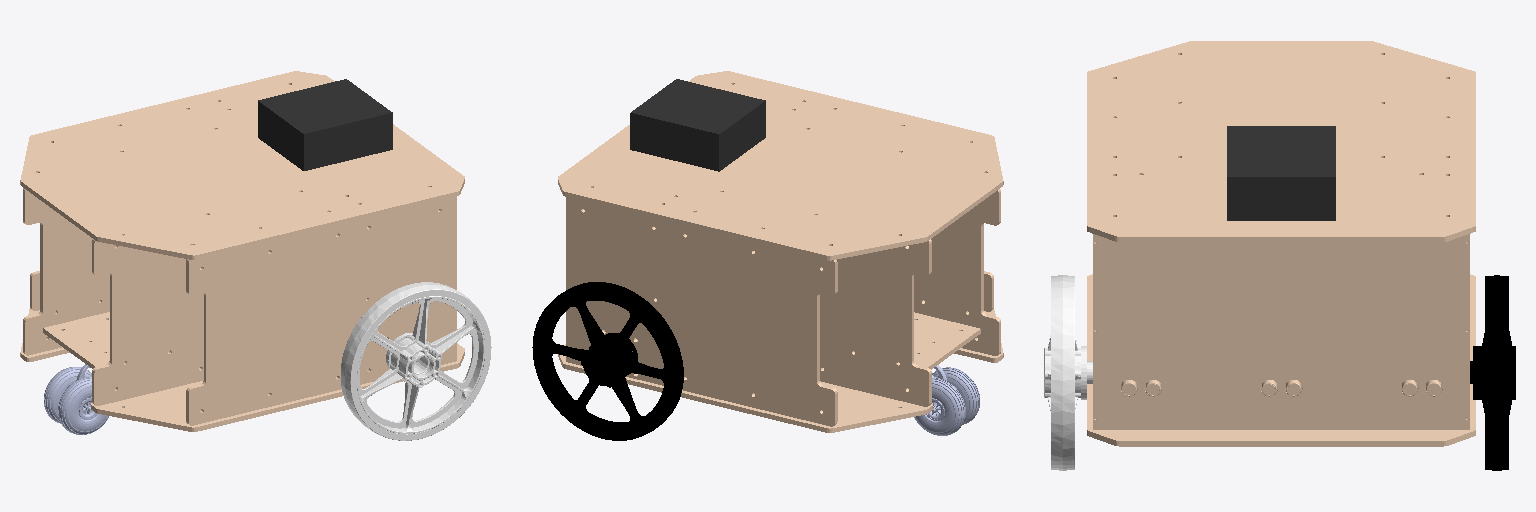
URDF robot description (final_description):
?<robot
  name="final_description">
  <link
    name="base_link">
    <inertial>
      <origin
        xyz="-0.0542102930126108 -0.00147372643899868 0.030052049722662"
        rpy="0 0 0" />
      <mass
        value="12.6996504557446" />
      <inertia
        ixx="0.204547339739001"
        ixy="-0.00137510220264843"
        ixz="-0.0219088420664967"
        iyy="4.18075396064092"
        iyz="0.000599165089979215"
        izz="0.272229743771322" />
    </inertial>
    <visual>
      <origin
        xyz="0 0 0"
        rpy="0 0 0" />
      <geometry>
        <mesh
          filename="package://final_description/meshes/base_link.STL" />
      </geometry>
      <material
        name="">
        <color
          rgba="0.996078431372549 0.870588235294118 0.76078431372549 1" />
      </material>
    </visual>
    <collision>
      <origin xyz="-0.14 0.0 0.082" rpy="0 0 0"/>
      <geometry>
        <box size="0.48 0.41 0.24"/>
      </geometry>
    </collision>
  </link>
  <link
    name="base_laser">
    <inertial>
      <origin
        xyz="0.0127 1.27087771103731E-19 -0.0254"
        rpy="0 0 0" />
      <mass
        value="0.7521662376" />
      <inertia
        ixx="0.000980644880738574"
        ixy="-2.68989534912001E-19"
        ixz="-1.37318069412531E-21"
        iyy="0.00117272996047087"
        iyz="-7.16140114664618E-36"
        izz="0.0018298631279761" />
    </inertial>
    <visual>
      <origin
        xyz="0 0 0"
        rpy="0 0 0" />
      <geometry>
        <mesh
          filename="package://final_description/meshes/base_laser.STL" />
      </geometry>
      <material
        name="">
        <color
          rgba="0.250980392156863 0.250980392156863 0.250980392156863 1" />
      </material>
    </visual>
  </link>
  <joint
    name="laser_joint"
    type="fixed">
    <origin
      xyz="-0.0109499999999999 0 0.25575"
      rpy="1.45390373192998E-33 -3.44227613947609E-17 -4.22366966803326E-17" />
    <parent
      link="base_link" />
    <child
      link="base_laser" />
    <axis
      xyz="0 0 0" />
  </joint>
  <link
    name="left_wheel_link">
    <inertial>
      <origin
        xyz="-1.02697830889065E-05 0.0207696125417688 -1.29881572009244E-06"
        rpy="0 0 0" />
      <mass
        value="0.360809172043754" />
      <inertia
        ixx="0.00106675827256857"
        ixy="1.00199366250103E-07"
        ixz="-5.46170508884861E-09"
        iyy="0.00202538580830831"
        iyz="7.42904254208682E-09"
        izz="0.00106727492610413" />
    </inertial>
    <visual>
      <origin
        xyz="0 0 0"
        rpy="0 0 0" />
      <geometry>
        <mesh
          filename="package://final_description/meshes/left_wheel_link.STL" />
      </geometry>
      <material
        name="">
        <color
          rgba="0 0 0 1" />
      </material>
    </visual>
    <collision>
      <origin xyz="0 0.028 0" rpy="-1.5708 0 0"/>
      <geometry>
        <cylinder length="0.03" radius="0.1"/>
      </geometry>
    </collision>
  </link>
  <joint
    name="left_wheel_joint"
    type="continuous">
    <origin
      xyz="0 0.1997875 0"
      rpy="0 -3.44227613947609E-17 0" />
    <parent
      link="base_link" />
    <child
      link="left_wheel_link" />
    <axis
      xyz="0 1 0" />
  </joint>
  <link
    name="right_wheel_link">
    <inertial>
      <origin
        xyz="-7.84481351270849E-06 -0.0207696125417685 -2.84905793875717E-06"
        rpy="0 0 0" />
      <mass
        value="0.360809172043695" />
      <inertia
        ixx="0.00106697353985248"
        ixy="-9.44069048271674E-08"
        ixz="-2.70312200163103E-07"
        iyy="0.00202538582183835"
        iyz="-1.71229823500516E-08"
        izz="0.00106705967235024" />
    </inertial>
    <visual>
      <origin
        xyz="0 0 0"
        rpy="0 0 0" />
      <geometry>
        <mesh
          filename="package://final_description/meshes/right_wheel_link.STL" />
      </geometry>
      <material
        name="">
        <color
          rgba="1 1 1 1" />
      </material>
    </visual>
    <collision>
      <origin xyz="0 -0.028 0" rpy="-1.5708 0 0"/>
      <geometry>
        <cylinder length="0.03" radius="0.1"/>
      </geometry>
    </collision>
  </link>
  <joint
    name="right_wheel_joint"
    type="continuous">
    <origin
      xyz="0 -0.202910199564064 0"
      rpy="0 -3.44227613947609E-17 0" />
    <parent
      link="base_link" />
    <child
      link="right_wheel_link" />
    <axis
      xyz="0 1 0" />
  </joint>
  <link
    name="rear_caster_link">
    <inertial>
      <origin
        xyz="-0.0145051914736939 1.27609826723261E-08 -0.0267008820899361"
        rpy="0 0 0" />
      <mass
        value="0.013967106304125" />
      <inertia
        ixx="3.65783748314741E-06"
        ixy="-6.12385147064122E-12"
        ixz="2.23670176886623E-06"
        iyy="6.47276824188858E-06"
        iyz="-1.48142589566213E-11"
        izz="3.77349384162539E-06" />
    </inertial>
    <visual>
      <origin
        xyz="0 0 0"
        rpy="0 0 0" />
      <geometry>
        <mesh
          filename="package://final_description/meshes/rear_caster_link.STL" />
      </geometry>
      <material
        name="">
        <color
          rgba="0.796078431372549 0.823529411764706 0.937254901960784 1" />
      </material>
    </visual>
  </link>
  <joint
    name="rear_caster_joint"
    type="continuous">
    <origin
      xyz="-0.311952216057907 0 -0.00604000000000002"
      rpy="-3.04704848392389E-33 -1.0830817995158E-17 8.85184209651363E-17" />
    <parent
      link="base_link" />
    <child
      link="rear_caster_link" />
    <axis
      xyz="0 0 1" />
  </joint>
  <link
    name="left_caster_link">
    <inertial>
      <origin
        xyz="-8.3267E-17 0.048196 -1.2143E-16"
        rpy="0 0 0" />
      <mass
        value="0.081491" />
      <inertia
        ixx="3.0097E-05"
        ixy="-2.5264E-20"
        ixz="5.5896E-21"
        iyy="5.4519E-05"
        iyz="3.6053E-20"
        izz="3.0097E-05" />
    </inertial>
    <visual>
      <origin
        xyz="0 0 0"
        rpy="0 0 0" />
      <geometry>
        <mesh
          filename="package://final_description/meshes/left_caster_link.STL" />
      </geometry>
      <material
        name="">
        <color
          rgba="0.79608 0.82353 0.93725 1" />
      </material>
    </visual>
    <collision>
      <origin xyz="0 0.05 0" rpy="-1.5708 0 0"/>
      <geometry>
        <cylinder length="0.02" radius="0.04"/>
      </geometry>
    </collision>
  </link>
  <joint
    name="left_caster_joint"
    type="continuous">
    <origin
      xyz="-0.0387984999999999 -0.03048 -0.057912"
      rpy="5.94919414549349E-33 0 -2.52170584030547E-16" />
    <parent
      link="rear_caster_link" />
    <child
      link="left_caster_link" />
    <axis
      xyz="0 1 0" />
  </joint>
  <link
    name="right_caster_link">
    <inertial>
      <origin
        xyz="1.1102E-16 0.012789 1.2837E-16"
        rpy="0 0 0" />
      <mass
        value="0.081491" />
      <inertia
        ixx="3.0097E-05"
        ixy="-2.5707E-20"
        ixz="4.679E-21"
        iyy="5.4519E-05"
        iyz="-3.2987E-20"
        izz="3.0097E-05" />
    </inertial>
    <visual>
      <origin
        xyz="0 0 0"
        rpy="0 0 0" />
      <geometry>
        <mesh
          filename="package://final_description/meshes/right_caster_link.STL" />
      </geometry>
      <material
        name="">
        <color
          rgba="0.79608 0.82353 0.93725 1" />
      </material>
    </visual>
    <collision>
      <origin xyz="0 0.01 0" rpy="-1.5708 0 0"/>
      <geometry>
        <cylinder length="0.02" radius="0.04"/>
      </geometry>
    </collision>
  </link>
  <joint
    name="right_caster_joint"
    type="continuous">
    <origin
      xyz="-0.0387984999999999 -0.03048 -0.057912"
      rpy="5.94919414549349E-33 0 -2.52170584030547E-16" />
    <parent
      link="rear_caster_link" />
    <child
      link="right_caster_link" />
    <axis
      xyz="0 1 0" />
  </joint>
  <gazebo>
    <plugin name="differential_drive_controller" filename="libgazebo_ros_diff_drive.so">
      <leftJoint>left_wheel_joint</leftJoint>
      <rightJoint>right_wheel_joint</rightJoint>
      <robotBaseFrame>base_link</robotBaseFrame>
      <wheelSeparation>0.45</wheelSeparation>
      <wheelDiameter>0.2</wheelDiameter>
      <publishWheelJointState>true</publishWheelJointState>
    </plugin>
  </gazebo>

  <gazebo reference="base_laser">
    <sensor type="gpu_ray" name="neato">
      <pose>0 0 0 0 0 0</pose>
      <visualize>true</visualize>
      <update_rate>5</update_rate>
      <ray>
        <scan>
          <horizontal>
            <samples>720</samples>
            <resolution>1</resolution>
            <min_angle>0</min_angle>
            <max_angle>6.28</max_angle>
          </horizontal>
        </scan>
        <range>
          <min>0.10</min>
          <max>30.0</max>
          <resolution>0.01</resolution>
        </range>
      </ray>
      <plugin name="cpu_laser" filename="libgazebo_ros_gpu_laser.so">
        <topicName>/scan</topicName>
        <frameName>base_laser</frameName>
      </plugin>
    </sensor>
  </gazebo>

</robot>

--- Render facts (derived) ---
3 views of the same robot in one strip: view 1: azimuth 30°, elevation 25°; view 2: azimuth 150°, elevation 25°; view 3: azimuth 270°, elevation 25° (orthographic).
Model final_description with 7 links and 6 joints (5 continuous, 1 fixed), rooted at base_link, posed all joints at 0.
Links seen in each view (by area): view 1: base_link, right_wheel_link, base_laser, right_caster_link, left_caster_link; view 2: base_link, left_wheel_link, base_laser, left_caster_link, right_caster_link; view 3: base_link, base_laser, right_wheel_link, left_wheel_link.
Link boxes in pixels (bbox=[...]): base_link: bbox=[20, 71, 464, 431]; right_wheel_link: bbox=[341, 282, 491, 440]; base_laser: bbox=[258, 79, 392, 170]; right_caster_link: bbox=[58, 377, 108, 434]; left_caster_link: bbox=[44, 367, 91, 423]; base_link: bbox=[558, 71, 1003, 432]; left_wheel_link: bbox=[532, 282, 683, 440]; base_laser: bbox=[630, 79, 765, 171]; left_caster_link: bbox=[914, 378, 965, 435]; right_caster_link: bbox=[932, 367, 979, 424]; base_link: bbox=[1087, 41, 1475, 446]; base_laser: bbox=[1227, 126, 1335, 220]; right_wheel_link: bbox=[1044, 275, 1092, 470]; left_wheel_link: bbox=[1470, 275, 1515, 470].
Size in the robot's own frame: 0.4919 by 0.4909 by 0.3579 metres.
7 mesh visuals loaded from 7 distinct referenced files (7 binary STL).